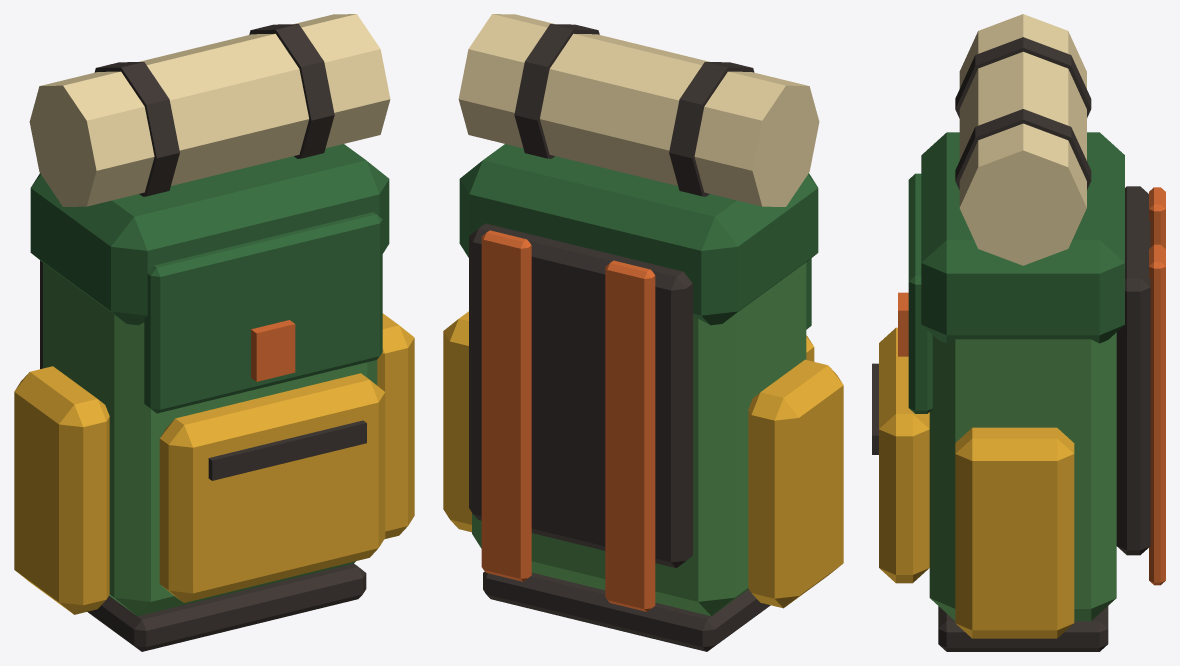
File: backpack.glb
3 views of the same model, side by side, from view 1: azimuth 30°, elevation 25°; view 2: azimuth 150°, elevation 25°; view 3: azimuth 270°, elevation 25° (orthographic). The views are drawn at different scales.
Parts seen in each view (by area): view 1: backpack; view 2: backpack; view 3: backpack.
Part boxes in pixels (box(x1,y1,x2,y2)): backpack: box(14, 14, 414, 651); backpack: box(443, 14, 843, 651); backpack: box(872, 14, 1165, 651).
Bounding box in the file's own units: 0.46 × 0.68 × 0.346.
